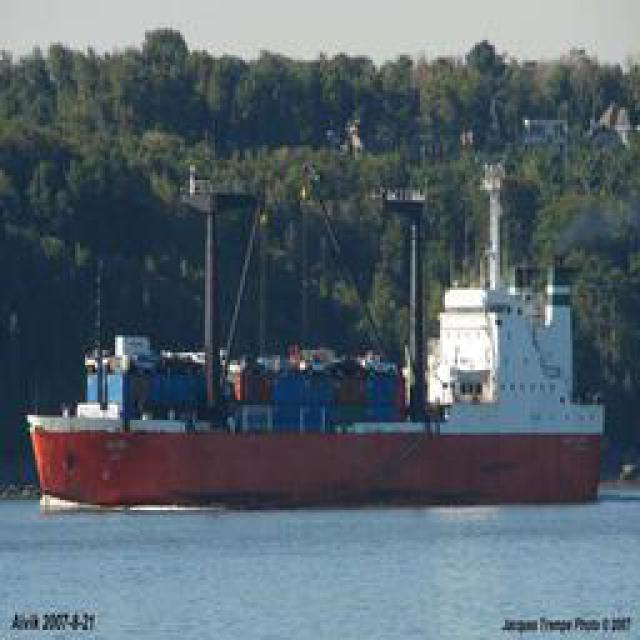Ship: (26, 223, 606, 511)
